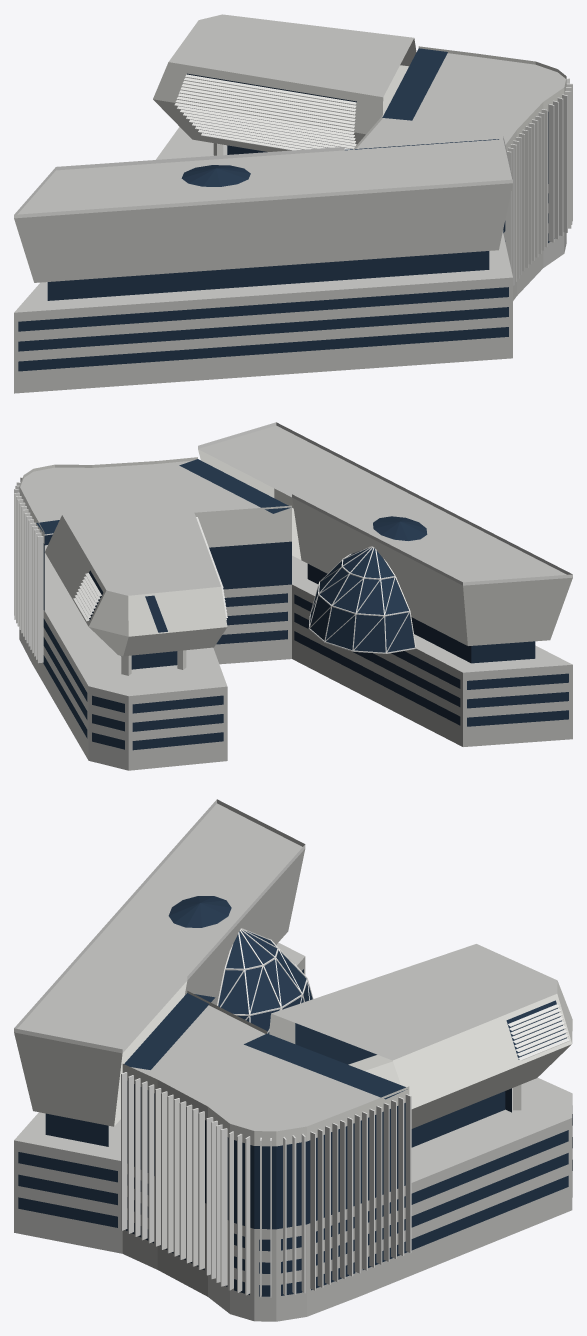
Rendered from galereya.glb.
3 renders of one model, top to bottom at view 1: azimuth 30°, elevation 25°; view 2: azimuth 150°, elevation 25°; view 3: azimuth 270°, elevation 25°, orthographic. The views are drawn at different scales.
Visible parts, largest first — view 1: galereya_roof, galereya_wall, galereya_wall2, galereya_glass, galereya_trim; view 2: galereya_wall2, galereya_roof, galereya_glass, galereya_wall, galereya_trim; view 3: galereya_roof, galereya_trim, galereya_glass, galereya_wall2, galereya_wall.
Boxes of the visible parts, <box> form: galereya_roof: <box>17,14,565,214</box>; galereya_wall: <box>14,38,566,282</box>; galereya_wall2: <box>14,127,566,393</box>; galereya_glass: <box>18,48,554,371</box>; galereya_trim: <box>14,74,572,285</box>; galereya_wall2: <box>19,545,572,770</box>; galereya_roof: <box>20,425,566,595</box>; galereya_glass: <box>36,459,568,750</box>; galereya_wall: <box>19,449,572,675</box>; galereya_trim: <box>14,422,572,663</box>; galereya_roof: <box>17,803,557,1131</box>; galereya_trim: <box>14,799,570,1297</box>; galereya_glass: <box>18,896,572,1296</box>; galereya_wall2: <box>14,942,572,1321</box>; galereya_wall: <box>14,849,572,1146</box>.
Bounding box in the file's own units: 151 × 46 × 111.
